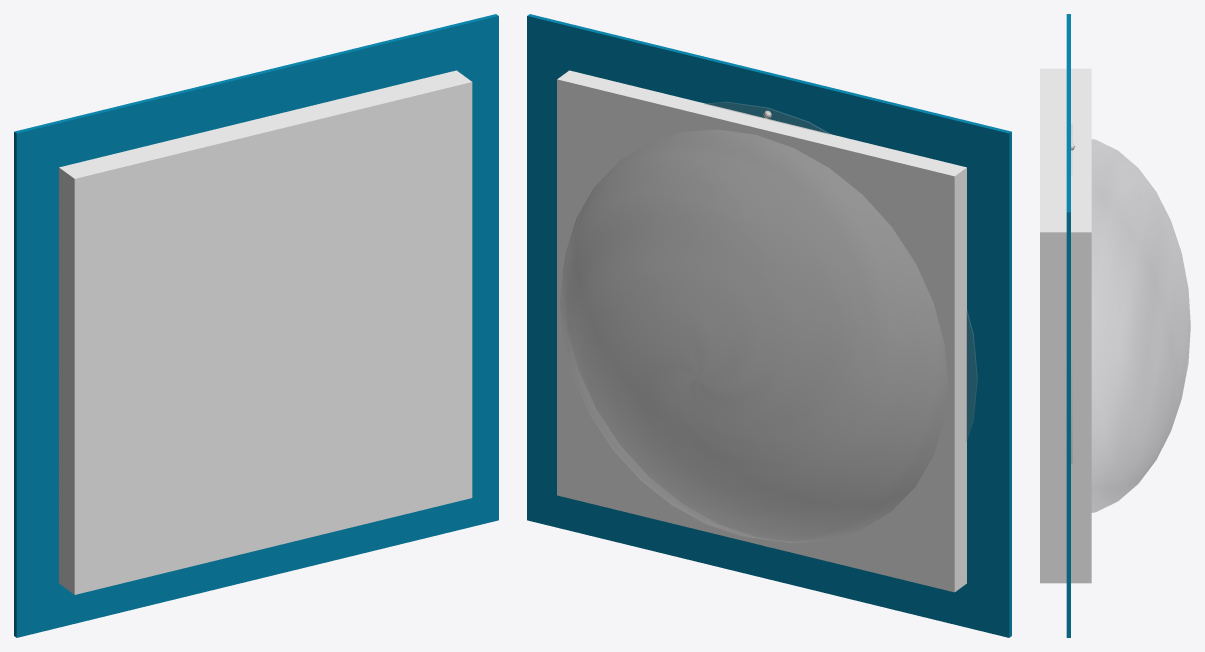
File: BUB.0d40d848.glb
The picture shows the model from 3 angles, left to right: view 1: azimuth 30°, elevation 25°; view 2: azimuth 150°, elevation 25°; view 3: azimuth 270°, elevation 25°; orthographic projection. The views are drawn at different scales.
Visible parts, largest first — view 1: joint,0,deck, Plane047,_colorize_; view 2: joint,0,deck, Plane047_1, Plane047,_colorize_; view 3: Plane047_1, joint,0,deck, Plane047,_colorize_.
Part boxes in pixels (bbox=[...]): joint,0,deck: bbox=[59, 70, 472, 594]; Plane047,_colorize_: bbox=[14, 14, 498, 637]; joint,0,deck: bbox=[557, 70, 966, 592]; Plane047_1: bbox=[560, 102, 977, 547]; Plane047,_colorize_: bbox=[527, 14, 1011, 637]; Plane047_1: bbox=[1071, 124, 1190, 512]; joint,0,deck: bbox=[1040, 68, 1091, 583]; Plane047,_colorize_: bbox=[1066, 14, 1070, 637].
Size of the model in its own units: 0.9093 by 0.9093 by 0.2919.
Materials: 4 (1 with a texture image).
